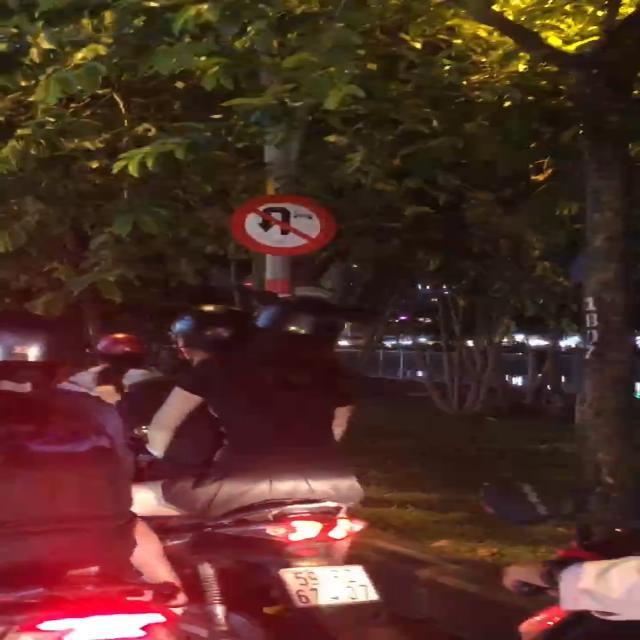Bien bao cam quay dau xe: (224, 192, 338, 257)
